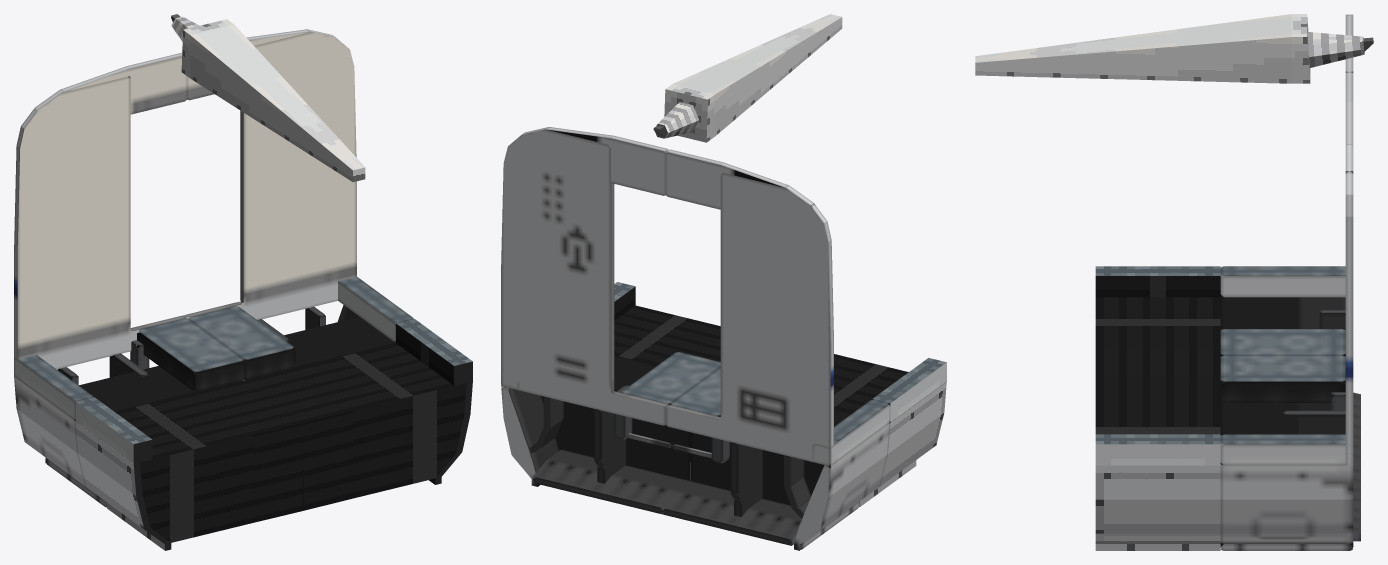
The model's file is body_tilted.obj.
3 views of the same model, side by side, from view 1: azimuth 30°, elevation 25°; view 2: azimuth 150°, elevation 25°; view 3: azimuth 270°, elevation 25° (orthographic). The views are drawn at different scales.
Visible parts, largest first — view 1: 端面1, 裙板-仪器舱靠近端面R, 裙板-仪器舱靠近端面L, mesh, 裙板-仪器舱R, 地板-中间, 裙板-仪器舱L, 端面2, 防雪风挡骨架, 防雪风挡骨架2; view 2: 端面1, 裙板-仪器舱R, 防雪风挡, 裙板-仪器舱L, 裙板-仪器舱靠近端面R, mesh, 端面2, 裙板-仪器舱靠近端面L, 地板-中间, 防雪风挡骨架, 防雪风挡骨架2, 车钩架 (+1 smaller); view 3: 裙板-仪器舱靠近端面L, 裙板-仪器舱L, mesh, 裙板-仪器舱靠近端面R, 地板-中间, 裙板-仪器舱R, 端面1, cylinder, 防雪风挡骨架, 防雪风挡, 端面2, 防雪风挡骨架2.
Boxes of the visible parts, x1,y1,x2,y2 form: 端面1: (14,29,356,377); 裙板-仪器舱靠近端面R: (75,380,303,550); 裙板-仪器舱靠近端面L: (245,319,472,510); mesh: (171,14,365,181); 裙板-仪器舱R: (14,354,244,507); 地板-中间: (137,306,295,391); 裙板-仪器舱L: (243,276,413,380); 端面2: (61,29,309,114); 防雪风挡骨架: (109,319,290,377); 防雪风挡骨架2: (57,306,325,385); 端面1: (501,127,833,465); 裙板-仪器舱R: (690,399,890,550); 防雪风挡: (533,449,801,545); 裙板-仪器舱L: (501,355,690,486); 裙板-仪器舱靠近端面R: (834,354,946,506); mesh: (653,14,842,142); 端面2: (547,127,788,209); 裙板-仪器舱靠近端面L: (614,282,720,365); 地板-中间: (622,352,720,416); 防雪风挡骨架: (594,385,762,516); 防雪风挡骨架2: (529,396,810,518); 车钩架: (614,413,729,463); 裙板-仪器舱靠近端面L: (1095,376,1220,550); 裙板-仪器舱L: (1220,401,1353,550); mesh: (975,14,1373,83); 裙板-仪器舱靠近端面R: (1095,266,1220,376); 地板-中间: (1220,329,1345,402); 裙板-仪器舱R: (1220,266,1345,329); 端面1: (1345,14,1353,465); cylinder: (1308,32,1364,67); 防雪风挡骨架: (1283,403,1345,434); 防雪风挡: (1353,392,1360,541); 端面2: (1345,15,1353,144); 防雪风挡骨架2: (1319,310,1345,330).
Size of the model in its own units: 3.38 by 4 by 3.19.
